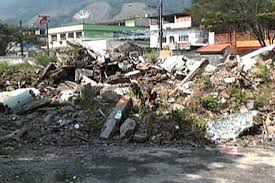rubble: (1, 56, 274, 146)
